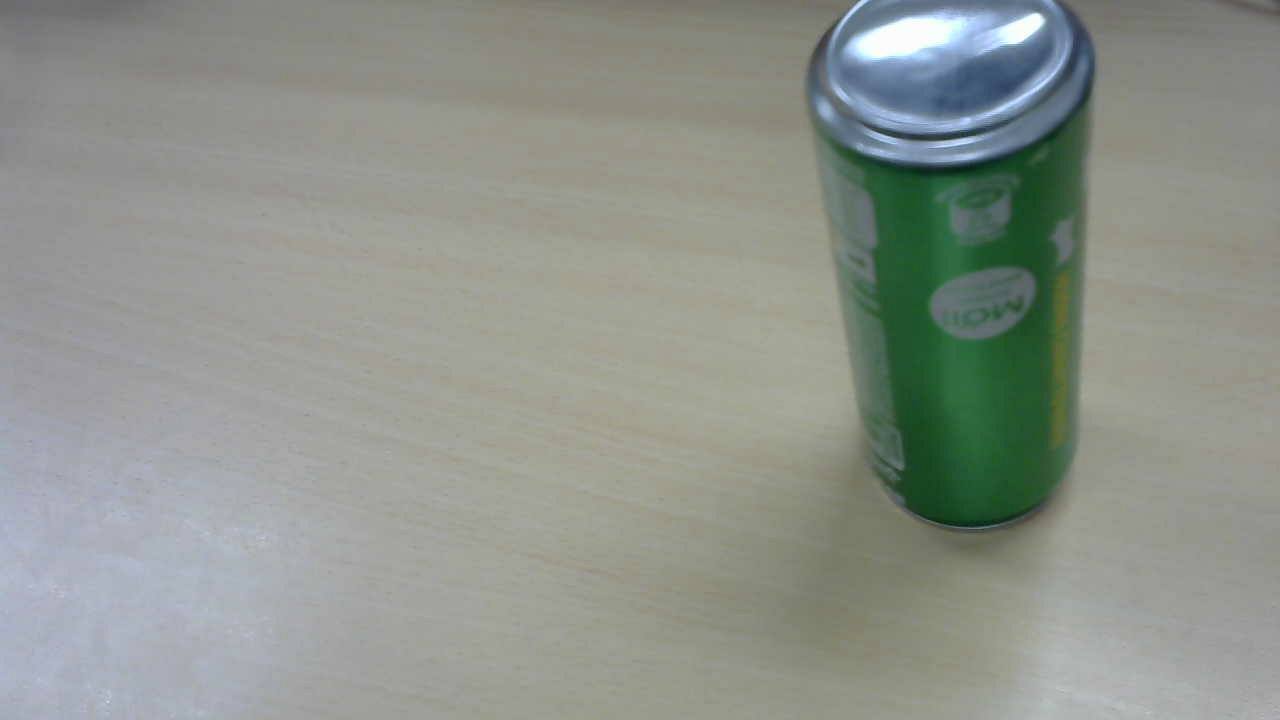Sprite: (815, 7, 1102, 534)
